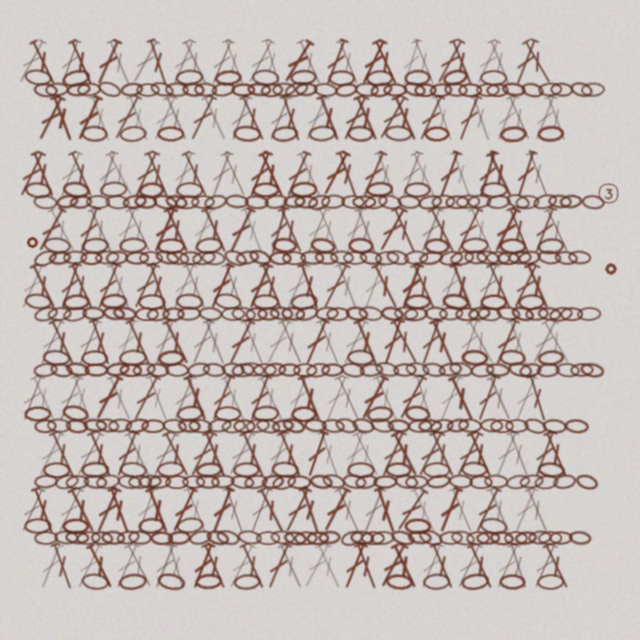chain: (61, 67, 91, 89), (156, 571, 186, 592), (441, 67, 470, 88), (61, 403, 90, 424), (32, 247, 59, 269), (222, 247, 249, 269), (479, 516, 508, 536), (460, 572, 490, 591), (96, 79, 123, 100), (283, 79, 310, 100), (417, 527, 444, 548), (309, 236, 337, 256), (213, 292, 242, 311), (441, 292, 470, 311), (118, 572, 147, 591), (247, 247, 273, 268), (389, 528, 416, 548), (24, 68, 52, 87), (62, 180, 90, 199), (43, 236, 71, 255), (195, 236, 223, 255), (24, 292, 52, 311), (290, 292, 318, 311), (176, 404, 204, 423), (176, 516, 204, 535), (81, 572, 109, 591), (42, 349, 71, 367), (306, 192, 332, 212), (33, 304, 59, 324), (522, 416, 548, 436), (271, 472, 297, 492), (574, 472, 600, 492), (339, 528, 365, 548), (404, 404, 431, 423), (214, 69, 242, 87), (119, 125, 147, 143), (271, 125, 299, 143), (499, 125, 527, 143), (24, 181, 52, 199), (537, 237, 565, 255), (62, 293, 90, 311), (157, 349, 185, 367), (537, 349, 565, 367), (366, 405, 394, 423), (119, 461, 147, 479), (195, 461, 223, 479), (537, 461, 565, 479), (233, 573, 261, 591), (385, 573, 413, 591), (149, 80, 175, 99), (363, 192, 389, 211), (505, 192, 531, 211), (532, 192, 558, 211), (154, 248, 180, 267), (294, 304, 320, 323), (374, 360, 400, 379), (448, 360, 474, 379), (507, 360, 533, 379), (124, 416, 150, 435), (369, 416, 395, 435), (54, 472, 80, 491), (215, 528, 241, 547), (175, 69, 204, 86), (308, 125, 337, 142), (384, 125, 413, 142), (175, 293, 204, 310), (138, 181, 165, 199), (233, 125, 261, 142), (81, 237, 109, 254), (119, 237, 147, 254), (461, 237, 489, 254), (100, 293, 128, 310), (119, 349, 147, 366), (81, 461, 109, 478), (271, 461, 299, 478), (369, 80, 394, 99), (402, 80, 427, 99), (569, 80, 594, 99), (385, 248, 410, 267), (510, 304, 535, 323), (281, 416, 306, 435), (334, 416, 359, 435), (351, 416, 376, 435), (321, 472, 346, 491), (188, 528, 213, 547), (205, 528, 230, 547), (152, 193, 178, 211), (377, 193, 403, 211), (417, 193, 443, 211), (191, 249, 217, 267), (418, 249, 444, 267), (438, 249, 464, 267), (449, 249, 475, 267), (62, 305, 88, 323), (548, 305, 574, 323), (305, 361, 331, 379), (340, 361, 366, 379), (421, 361, 447, 379), (579, 361, 605, 379), (255, 417, 281, 435), (429, 417, 455, 435), (505, 473, 531, 491), (450, 529, 476, 547), (252, 69, 279, 86), (290, 69, 317, 86), (404, 69, 431, 86), (81, 125, 108, 142), (347, 125, 374, 142), (537, 125, 564, 142), (100, 181, 127, 198), (290, 181, 317, 198), (366, 181, 393, 198), (271, 237, 298, 254), (347, 349, 374, 366), (461, 349, 488, 366), (499, 349, 526, 366), (252, 405, 279, 422), (157, 461, 184, 478), (461, 461, 488, 478), (138, 517, 165, 534), (195, 573, 222, 590), (423, 573, 450, 590), (334, 81, 359, 99), (520, 81, 545, 99), (164, 193, 189, 211), (203, 193, 228, 211), (165, 249, 190, 267), (49, 361, 74, 379), (518, 361, 543, 379), (480, 182, 508, 198), (157, 238, 185, 254), (138, 294, 166, 310), (347, 462, 375, 478), (24, 518, 52, 534), (348, 237, 374, 254), (475, 249, 501, 266), (95, 473, 121, 490), (243, 473, 269, 490), (328, 70, 355, 86), (366, 70, 393, 86), (480, 70, 507, 86), (157, 126, 184, 142), (176, 182, 203, 198), (252, 182, 279, 198), (404, 182, 431, 198), (499, 238, 526, 254), (252, 294, 279, 310), (404, 294, 431, 310), (480, 294, 507, 310), (518, 294, 545, 310), (81, 350, 108, 366), (24, 406, 51, 422), (214, 406, 241, 422), (43, 462, 70, 478), (233, 462, 260, 478), (385, 462, 412, 478), (423, 462, 450, 478), (62, 518, 89, 534), (404, 518, 431, 534), (499, 574, 526, 590), (537, 574, 564, 590), (66, 81, 91, 98), (211, 81, 236, 98), (501, 81, 526, 98), (55, 193, 80, 210), (122, 193, 147, 210), (235, 249, 260, 266), (517, 249, 542, 266), (537, 249, 562, 266), (112, 305, 137, 322), (358, 305, 383, 322), (467, 305, 492, 322), (496, 305, 521, 322), (65, 361, 90, 378), (105, 361, 130, 378), (186, 361, 211, 378), (240, 361, 265, 378), (405, 361, 430, 378), (438, 361, 463, 378), (95, 417, 120, 434), (207, 417, 232, 434), (245, 417, 270, 434), (342, 473, 367, 490), (354, 473, 379, 490), (394, 473, 419, 490), (426, 473, 451, 490), (519, 473, 544, 490), (552, 473, 577, 490), (237, 529, 262, 546), (424, 126, 450, 142), (424, 238, 450, 254), (291, 406, 317, 422), (120, 81, 144, 98), (264, 193, 288, 210), (359, 249, 383, 266), (102, 305, 126, 322), (345, 305, 369, 322), (380, 305, 404, 322), (132, 361, 156, 378), (446, 417, 470, 434), (261, 473, 285, 490), (309, 473, 333, 490), (116, 529, 140, 546), (33, 82, 58, 98), (313, 82, 338, 98), (33, 194, 58, 210), (105, 194, 130, 210), (175, 194, 200, 210), (244, 194, 269, 210), (486, 194, 511, 210), (515, 194, 540, 210), (201, 250, 226, 266), (314, 250, 339, 266), (47, 306, 72, 322), (198, 306, 223, 322), (231, 306, 256, 322), (403, 306, 428, 322), (477, 306, 502, 322), (537, 306, 562, 322), (33, 362, 58, 378), (359, 362, 384, 378), (470, 362, 495, 378), (485, 362, 510, 378), (555, 362, 580, 378), (162, 418, 187, 434), (188, 418, 213, 434), (221, 418, 246, 434), (542, 418, 567, 434), (564, 418, 589, 434), (65, 474, 90, 490), (83, 474, 108, 490), (117, 474, 142, 490), (147, 474, 172, 490), (230, 474, 255, 490), (534, 474, 559, 490), (76, 530, 101, 546), (370, 530, 395, 546), (489, 530, 514, 546), (260, 82, 284, 98), (429, 82, 453, 98), (69, 194, 93, 210), (397, 194, 421, 210), (581, 194, 605, 210), (48, 250, 72, 266), (554, 250, 578, 266), (146, 306, 170, 322), (146, 362, 170, 378), (202, 362, 226, 378), (231, 362, 255, 378), (536, 362, 560, 378), (65, 418, 89, 434), (271, 418, 295, 434), (321, 418, 345, 434), (387, 418, 411, 434), (90, 530, 114, 546), (283, 530, 307, 546), (514, 530, 538, 546), (568, 530, 592, 546), (431, 194, 456, 209), (467, 194, 492, 209), (269, 306, 294, 321), (195, 474, 220, 489), (270, 530, 295, 545), (407, 530, 432, 545), (45, 82, 69, 97), (77, 82, 101, 97), (165, 82, 189, 97), (247, 82, 271, 97), (272, 82, 296, 97), (355, 82, 379, 97), (444, 82, 468, 97), (538, 82, 562, 97), (581, 82, 605, 97), (225, 194, 249, 209), (321, 194, 345, 209), (456, 194, 480, 209), (548, 194, 572, 209), (559, 194, 583, 209), (63, 250, 87, 265), (95, 250, 119, 265), (105, 250, 129, 265), (300, 250, 324, 265), (330, 250, 354, 265), (404, 250, 428, 265), (508, 250, 532, 265), (177, 306, 201, 321), (281, 306, 305, 321), (315, 306, 339, 321), (394, 306, 418, 321), (424, 306, 448, 321), (439, 306, 463, 321), (525, 306, 549, 321), (221, 362, 245, 377), (263, 362, 287, 377), (47, 418, 71, 433), (83, 418, 107, 433), (108, 418, 132, 433), (177, 418, 201, 433), (458, 418, 482, 433), (34, 474, 58, 489), (138, 474, 162, 489), (211, 474, 235, 489), (449, 474, 473, 489), (484, 474, 508, 489), (54, 530, 78, 545), (65, 530, 89, 545), (101, 530, 125, 545), (128, 530, 152, 545), (167, 530, 191, 545), (350, 530, 374, 545), (528, 530, 552, 545), (182, 82, 205, 97), (194, 82, 217, 97), (295, 82, 318, 97), (550, 82, 573, 97), (134, 194, 157, 209), (283, 194, 306, 209), (464, 250, 487, 265), (568, 250, 591, 265), (82, 306, 105, 321), (304, 418, 327, 433), (480, 418, 503, 433), (318, 530, 341, 545), (136, 83, 160, 97), (231, 83, 255, 97), (383, 83, 407, 97), (458, 83, 482, 97), (476, 83, 500, 97), (86, 195, 110, 209), (191, 195, 215, 209), (294, 195, 318, 209), (341, 195, 365, 209), (352, 195, 376, 209), (445, 195, 469, 209), (125, 251, 149, 265), (139, 251, 163, 265), (282, 251, 306, 265), (343, 251, 367, 265), (375, 251, 399, 265), (486, 251, 510, 265), (135, 307, 159, 321), (221, 307, 245, 321), (326, 307, 350, 321), (455, 307, 479, 321), (577, 307, 601, 321), (84, 363, 108, 377), (165, 363, 189, 377), (253, 363, 277, 377), (293, 363, 317, 377), (393, 363, 417, 377), (570, 363, 594, 377), (141, 419, 165, 433), (408, 419, 432, 433), (418, 419, 442, 433), (490, 419, 514, 433), (505, 419, 529, 433), (128, 475, 152, 489), (165, 475, 189, 489), (287, 475, 311, 489), (373, 475, 397, 489), (469, 475, 493, 489), (34, 531, 58, 545), (256, 531, 280, 545), (294, 531, 318, 545), (361, 531, 385, 545), (439, 531, 463, 545), (466, 531, 490, 545), (476, 531, 500, 545), (504, 531, 528, 545), (538, 531, 562, 545), (549, 531, 573, 545), (414, 83, 437, 97), (486, 83, 509, 97), (80, 251, 103, 265), (179, 251, 202, 265), (269, 251, 292, 265), (497, 251, 520, 265), (162, 307, 185, 321), (245, 307, 268, 321), (257, 307, 280, 321), (560, 307, 583, 321), (119, 363, 142, 377), (278, 363, 301, 377), (321, 363, 344, 377), (34, 419, 57, 433), (233, 419, 256, 433), (182, 475, 205, 489), (405, 475, 428, 489), (150, 531, 173, 545), (306, 531, 329, 545)
double: (392, 486, 431, 534), (279, 37, 317, 86), (13, 37, 50, 86), (127, 37, 164, 86), (519, 37, 556, 86), (374, 93, 411, 142), (44, 205, 81, 254), (374, 205, 411, 254), (538, 317, 575, 366), (128, 373, 164, 423), (387, 429, 423, 479), (64, 485, 100, 535), (223, 541, 259, 591), (242, 37, 278, 86), (432, 37, 468, 86), (109, 93, 145, 142), (102, 149, 138, 198), (318, 149, 354, 198), (33, 205, 69, 254), (387, 317, 423, 366), (463, 317, 499, 366), (90, 373, 126, 422), (356, 373, 392, 422), (394, 373, 430, 422), (71, 429, 107, 478), (223, 429, 259, 478), (318, 485, 354, 534), (121, 541, 157, 590), (299, 541, 335, 590), (375, 541, 411, 590), (26, 37, 61, 87), (178, 37, 213, 87), (356, 37, 391, 87), (33, 93, 68, 143), (185, 93, 220, 143), (14, 149, 49, 199), (178, 149, 213, 199), (425, 205, 460, 255), (451, 205, 486, 255), (489, 205, 524, 255), (26, 261, 61, 311), (128, 261, 163, 311), (318, 261, 353, 311), (368, 261, 403, 311), (508, 261, 543, 311), (45, 317, 80, 367), (159, 317, 194, 367), (223, 317, 258, 367), (261, 317, 296, 367), (337, 317, 372, 367), (527, 317, 562, 367), (254, 373, 289, 423), (33, 429, 68, 479), (121, 429, 156, 479), (147, 429, 182, 479), (159, 429, 194, 479), (185, 429, 220, 479), (349, 429, 384, 479), (413, 429, 448, 479), (451, 429, 486, 479), (52, 485, 87, 535), (254, 485, 289, 535), (280, 485, 315, 535), (470, 485, 505, 535), (71, 541, 106, 591), (83, 541, 118, 591), (387, 541, 422, 591), (451, 541, 486, 591), (539, 541, 574, 591), (91, 37, 125, 87), (293, 37, 327, 87), (369, 37, 403, 87), (471, 37, 505, 87), (72, 93, 106, 143), (148, 93, 182, 143), (198, 93, 232, 143), (236, 93, 270, 143), (338, 93, 372, 143), (388, 93, 422, 143), (414, 93, 448, 143), (502, 93, 536, 143), (129, 149, 163, 199), (217, 149, 251, 199), (255, 149, 289, 199), (293, 149, 327, 199), (407, 149, 441, 199), (483, 149, 517, 199), (84, 205, 118, 255), (122, 205, 156, 255), (160, 205, 194, 255), (198, 205, 232, 255), (224, 205, 258, 255), (274, 205, 308, 255), (464, 205, 498, 255), (540, 205, 574, 255), (15, 261, 49, 311), (65, 261, 99, 311), (407, 261, 441, 311), (483, 261, 517, 311), (34, 317, 68, 367), (122, 317, 156, 367), (274, 317, 308, 367), (27, 373, 61, 423), (103, 373, 137, 423), (217, 373, 251, 423), (331, 373, 365, 423), (369, 373, 403, 423), (445, 373, 479, 423), (483, 373, 517, 423), (46, 429, 80, 479), (236, 429, 270, 479), (376, 429, 410, 479), (426, 429, 460, 479), (15, 485, 49, 535), (167, 485, 201, 535), (331, 485, 365, 535), (407, 485, 441, 535), (236, 541, 270, 591), (274, 541, 308, 591), (312, 541, 346, 591), (464, 541, 498, 591), (490, 541, 524, 591), (65, 37, 98, 87), (103, 37, 136, 87), (167, 37, 200, 87), (205, 37, 238, 87), (160, 93, 193, 143), (300, 93, 333, 143), (350, 93, 383, 143), (27, 149, 60, 199), (65, 149, 98, 199), (141, 149, 174, 199), (281, 149, 314, 199), (357, 149, 390, 199), (148, 205, 181, 255), (312, 205, 345, 255), (388, 205, 421, 255), (167, 261, 200, 311), (179, 261, 212, 311), (205, 261, 238, 311), (243, 261, 276, 311), (281, 261, 314, 311), (521, 261, 554, 311), (72, 317, 105, 367), (186, 317, 219, 367), (300, 317, 333, 367), (312, 317, 345, 367), (350, 317, 383, 367), (426, 317, 459, 367), (490, 317, 523, 367), (53, 373, 86, 423), (509, 373, 542, 423), (84, 429, 117, 479), (274, 429, 307, 479), (464, 429, 497, 479), (490, 429, 523, 479), (540, 429, 573, 479), (91, 485, 124, 535), (445, 485, 478, 535), (483, 485, 516, 535), (509, 485, 542, 535), (521, 485, 554, 535), (110, 541, 143, 591), (198, 541, 231, 591), (262, 541, 295, 591), (426, 541, 459, 591), (528, 541, 561, 591), (218, 37, 250, 87), (320, 37, 352, 87), (332, 37, 364, 87), (408, 37, 440, 87), (446, 37, 478, 87), (484, 37, 516, 87), (510, 37, 542, 87), (263, 93, 295, 143), (313, 93, 345, 143), (453, 93, 485, 143), (491, 93, 523, 143), (529, 93, 561, 143), (54, 149, 86, 199), (244, 149, 276, 199), (522, 149, 554, 199), (187, 205, 219, 255), (237, 205, 269, 255), (301, 205, 333, 255), (415, 205, 447, 255), (503, 205, 535, 255), (92, 261, 124, 311), (104, 261, 136, 311), (256, 261, 288, 311), (446, 261, 478, 311), (199, 317, 231, 367), (237, 317, 269, 367), (16, 373, 48, 423), (168, 373, 200, 423), (180, 373, 212, 423), (206, 373, 238, 423), (294, 373, 326, 423), (320, 373, 352, 423), (434, 373, 466, 423), (111, 429, 143, 479), (199, 429, 231, 479), (503, 429, 535, 479), (142, 485, 174, 535), (180, 485, 212, 535), (206, 485, 238, 535), (244, 485, 276, 535), (358, 485, 390, 535), (434, 485, 466, 535), (35, 541, 67, 591), (149, 541, 181, 591), (187, 541, 219, 591), (339, 541, 371, 591), (415, 541, 447, 591), (54, 37, 85, 87), (47, 93, 78, 143), (85, 93, 116, 143), (123, 93, 154, 143), (225, 93, 256, 143), (541, 93, 572, 143), (168, 149, 199, 199), (206, 149, 237, 199), (332, 149, 363, 199), (396, 149, 427, 199), (434, 149, 465, 199), (446, 149, 477, 199), (111, 205, 142, 255), (351, 205, 382, 255), (529, 205, 560, 255), (218, 261, 249, 311), (294, 261, 325, 311), (332, 261, 363, 311), (358, 261, 389, 311), (396, 261, 427, 311), (434, 261, 465, 311), (472, 261, 503, 311), (85, 317, 116, 367), (111, 317, 142, 367), (149, 317, 180, 367), (503, 317, 534, 367), (142, 373, 173, 423), (244, 373, 275, 423), (282, 373, 313, 423), (472, 373, 503, 423), (263, 429, 294, 479), (339, 429, 370, 479), (529, 429, 560, 479), (28, 485, 59, 535), (104, 485, 135, 535), (47, 541, 78, 591), (351, 541, 382, 591), (143, 37, 173, 87), (276, 93, 306, 143), (428, 93, 458, 143), (466, 93, 496, 143), (371, 149, 401, 199), (511, 149, 541, 199), (74, 205, 104, 255), (340, 205, 370, 255), (55, 261, 85, 311), (143, 261, 173, 311), (378, 317, 408, 367), (416, 317, 446, 367), (454, 317, 484, 367), (67, 373, 97, 423), (302, 429, 332, 479), (314, 429, 344, 479), (131, 485, 161, 535), (219, 485, 249, 535), (295, 485, 325, 535), (371, 485, 401, 535), (397, 37, 426, 87), (93, 149, 122, 199), (473, 149, 502, 199), (409, 373, 438, 423), (523, 373, 552, 423), (162, 541, 191, 591), (504, 541, 533, 591), (258, 37, 286, 87), (265, 205, 293, 255)
noise: (596, 181, 621, 206), (603, 261, 618, 276), (25, 235, 39, 249)
